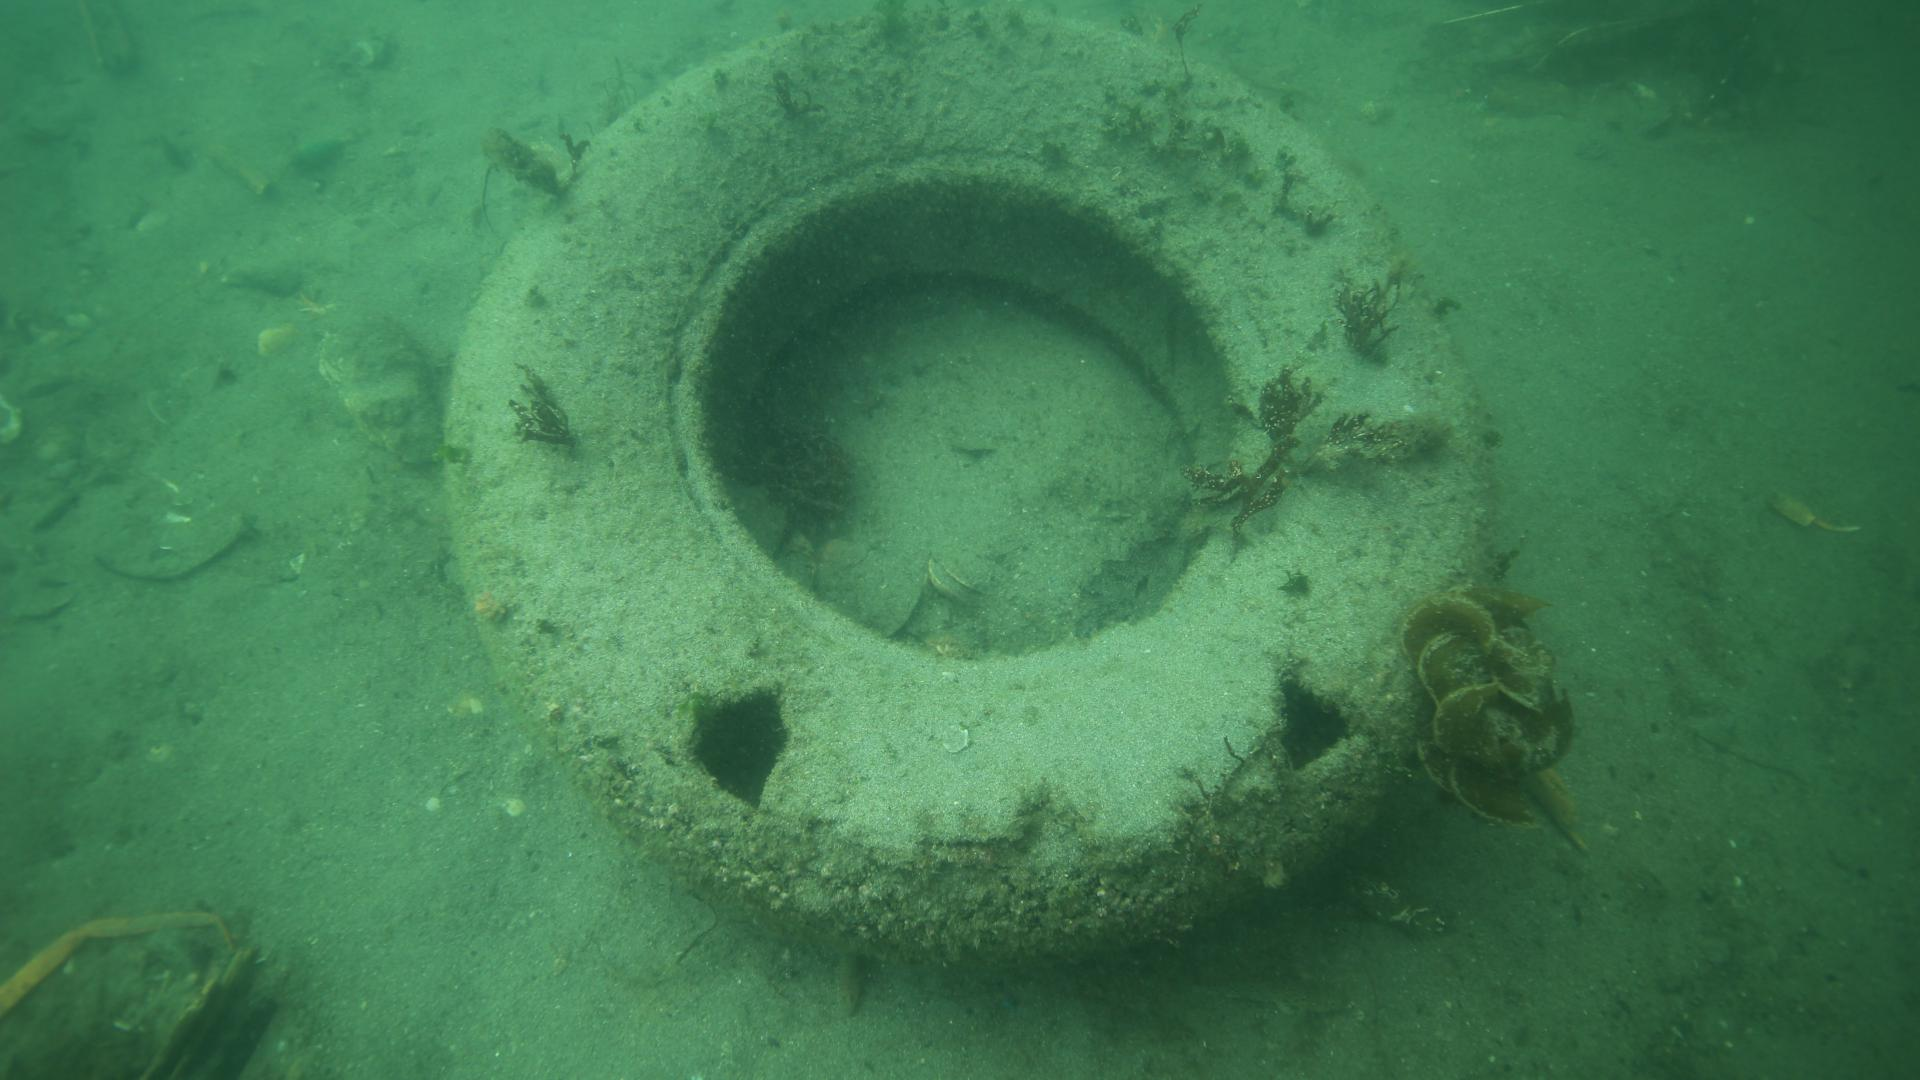tire: (442, 0, 1505, 992)
